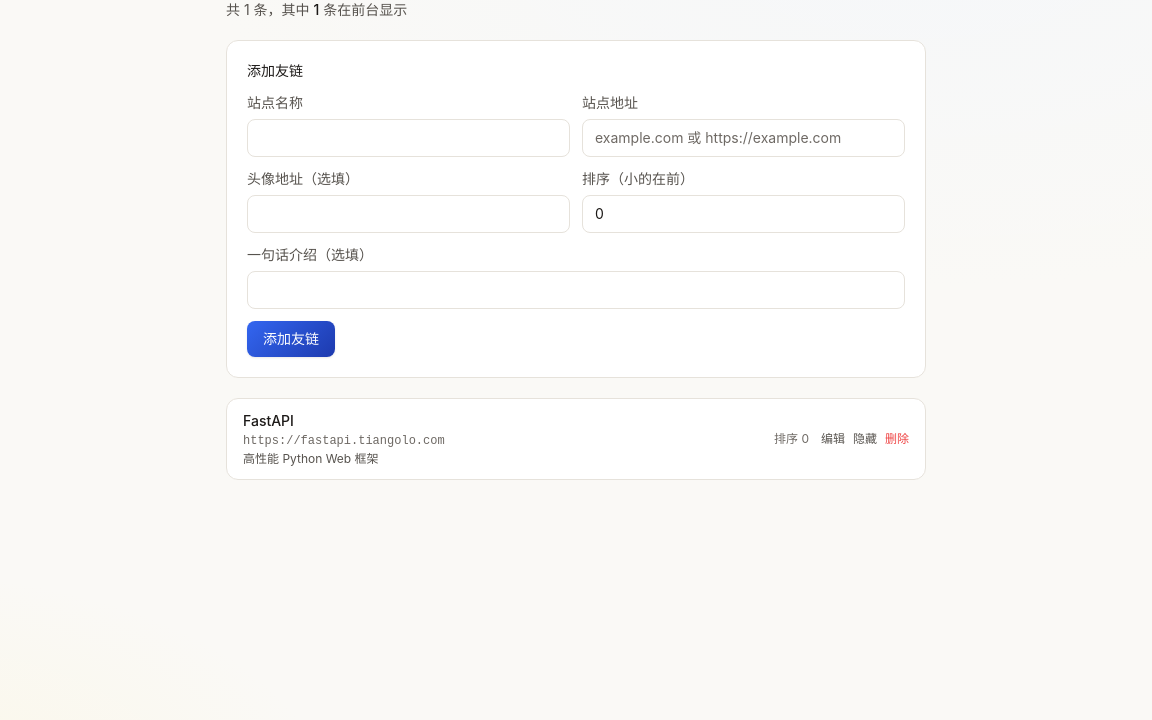
LinksView（后台） · 删除 › 点「删除」只打开确认框，一个请求都不发
This screenshot has width=1152, height=720.
Click the button "删除": (897, 439) [885,431,909,447]
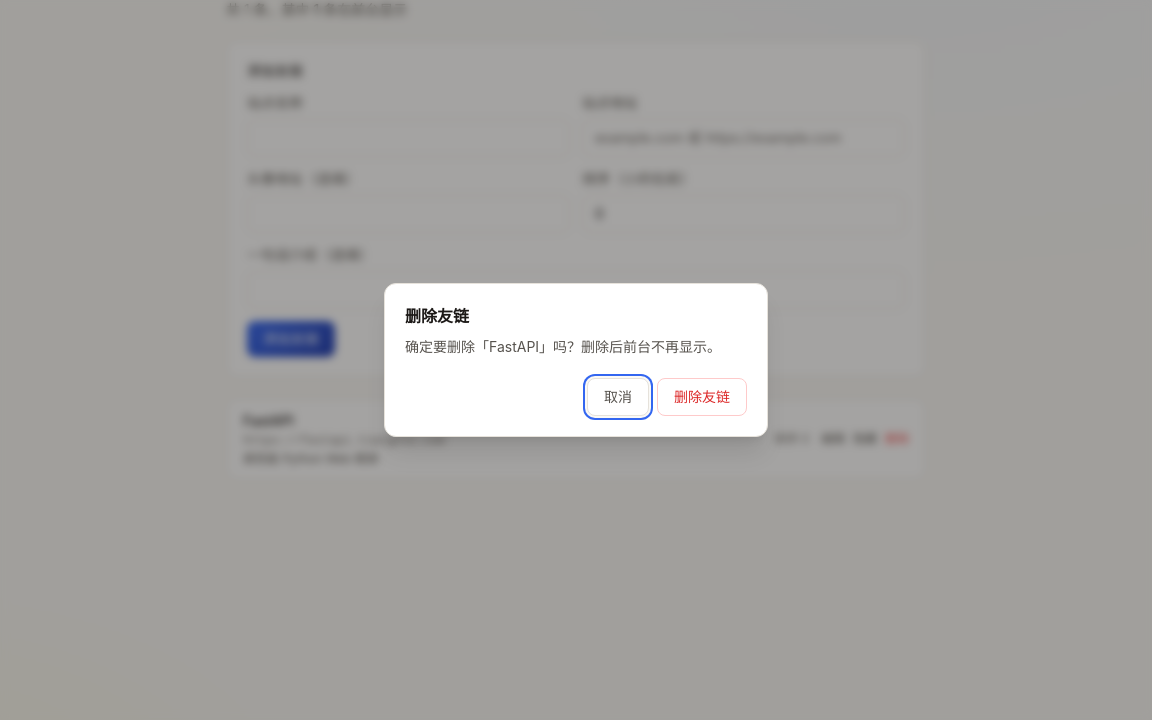
Expected: the dialog is shown
Expected: the dialog shows "FastAPI", [405,338,721,355]
